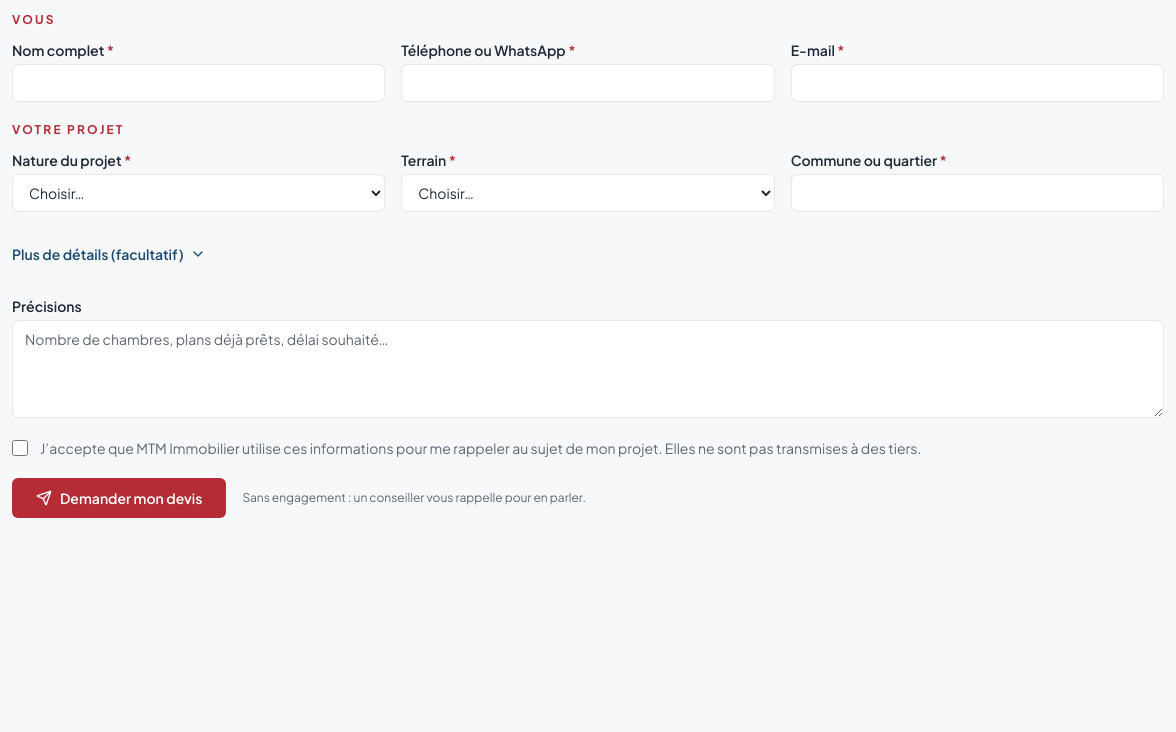
FormulaireDevis › garde les champs facultatifs rangés jusqu’à ce qu’on les ouvre
The image size is (1176, 732).
Expected: the field labelled "Budget indicatif" is not shown
Step 1. Click the button "Plus de détails (facultatif)" → (109, 254), box [12,232,206,276]
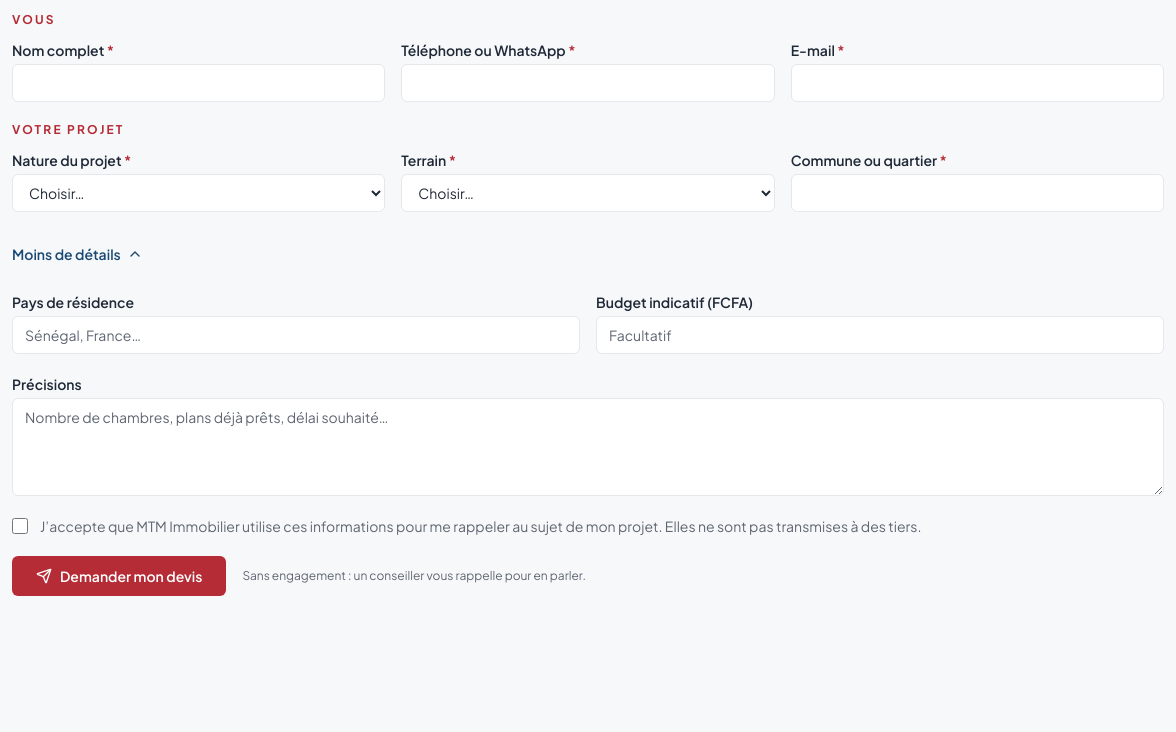
Expected: the number field labelled "Budget indicatif (FCFA)" is shown, [596,316,1164,354]
Expected: the field labelled "Pays de résidence" is shown, [12,316,580,354]
